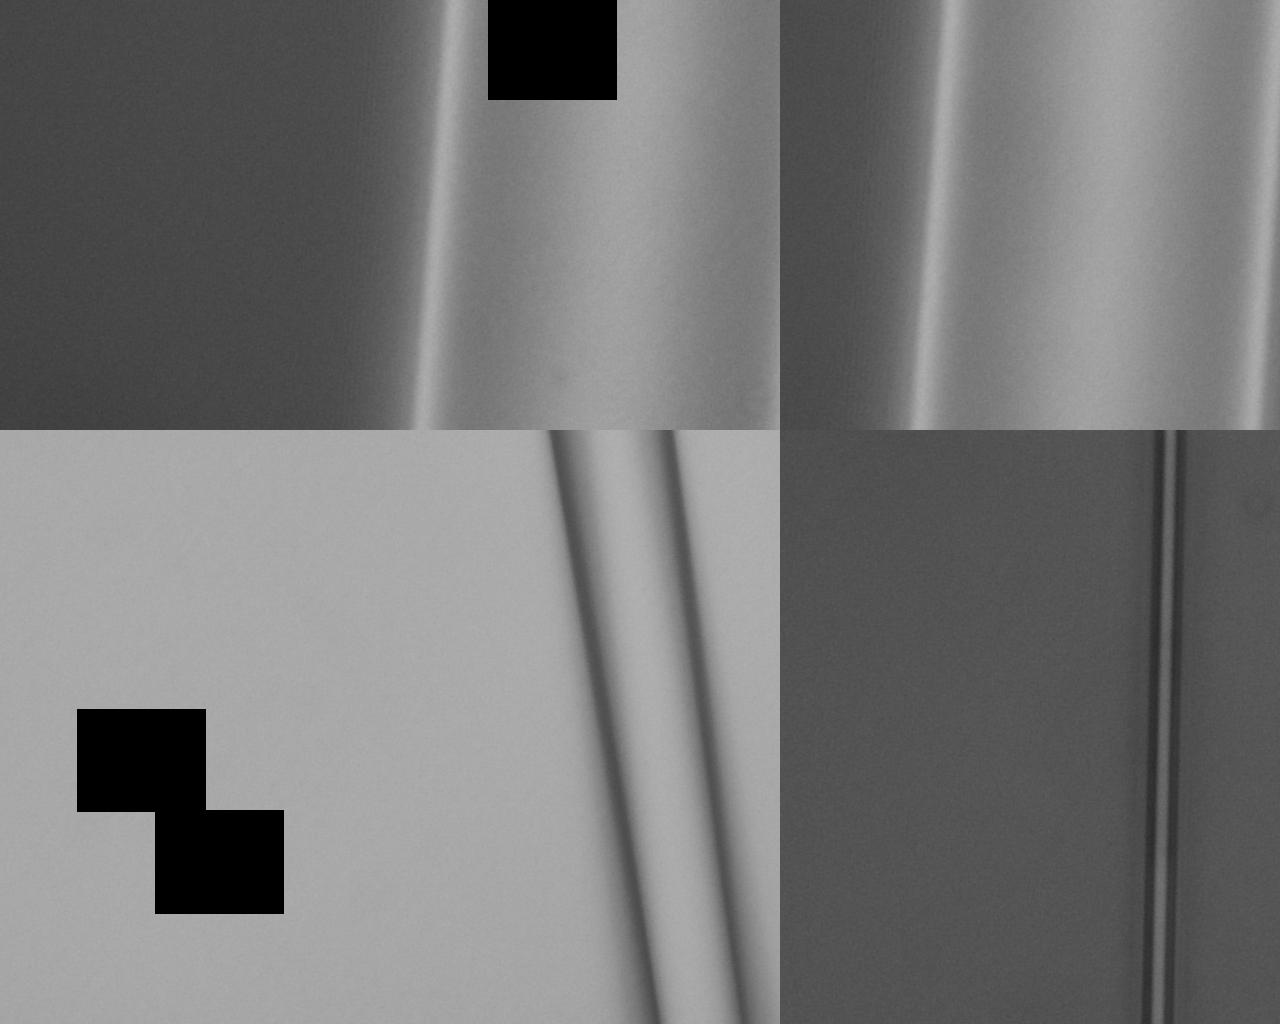fiber: (307, 195, 1266, 585), (681, 762, 1280, 1024), (0, 437, 307, 651)
